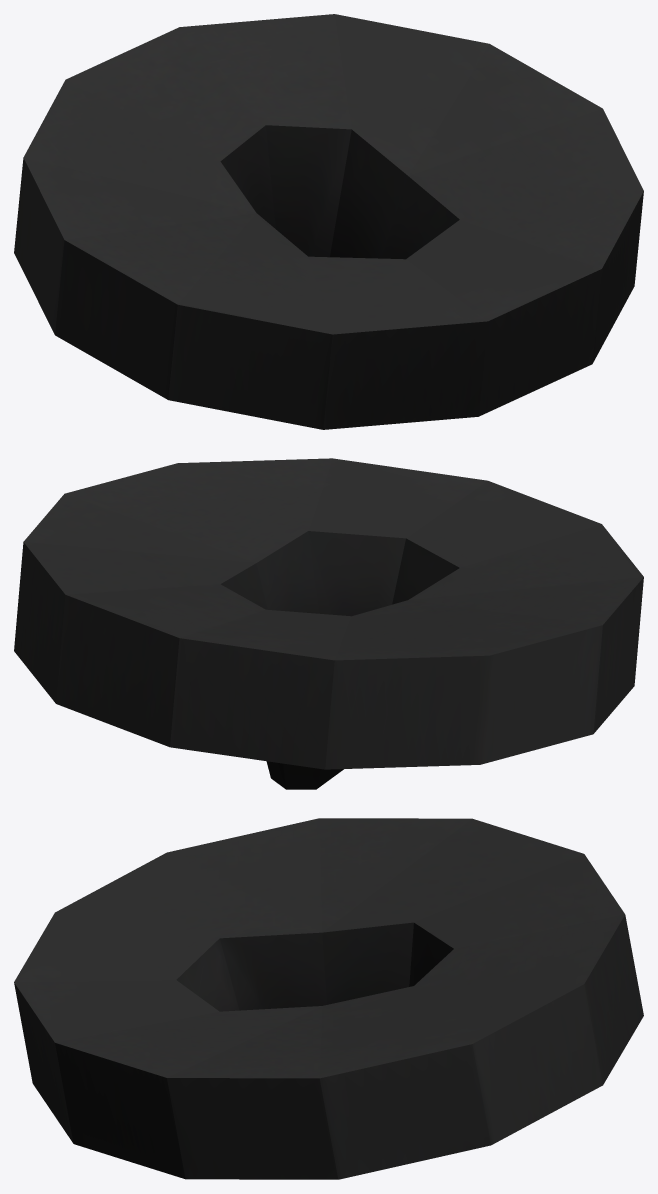
Rendered from trackpad_scroll_cut.obj.
3 renders of one model, top to bottom at view 1: azimuth 30°, elevation 25°; view 2: azimuth 150°, elevation 25°; view 3: azimuth 270°, elevation 25°, orthographic.
Parts seen in each view (by area): view 1: trackpad_scroll_cut_track_pad_scrollcut_mesh; view 2: trackpad_scroll_cut_track_pad_scrollcut_mesh; view 3: trackpad_scroll_cut_track_pad_scrollcut_mesh.
Part boxes in pixels (x1=…): trackpad_scroll_cut_track_pad_scrollcut_mesh: x1=14, y1=14, x2=643, y2=429; trackpad_scroll_cut_track_pad_scrollcut_mesh: x1=14, y1=458, x2=643, y2=789; trackpad_scroll_cut_track_pad_scrollcut_mesh: x1=14, y1=818, x2=643, y2=1179.
Bounding box in the file's own units: 0.0426 × 0.0174 × 0.0436.
Materials: 1 (1 with a texture image).
